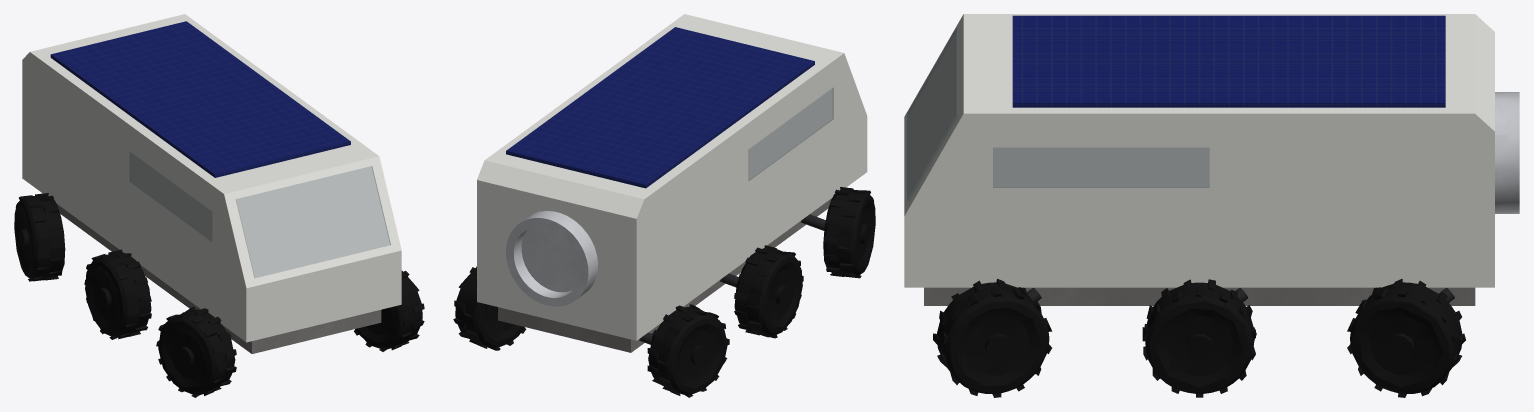
The model's file is rover03_pressurised_rover_steer_left.glb.
The picture shows the model from 3 angles, left to right: view 1: azimuth 30°, elevation 25°; view 2: azimuth 150°, elevation 25°; view 3: azimuth 270°, elevation 25°; orthographic projection. The views are drawn at different scales.
Visible parts, largest first — view 1: cabin, roof_solar, windows, wheel_4, wheel_5, wheel_6, chassis, wheel_1; view 2: cabin, roof_solar, rear_hatch, wheel_6, wheel_5, wheel_4, chassis, windows, wheel_3, suspension_arms; view 3: cabin, roof_solar, windows, wheel_2, wheel_3, wheel_1, chassis, rear_hatch.
Part boxes in pixels (<box>): cabin: <box>22,14,401,342</box>; roof_solar: <box>50,21,350,177</box>; windows: <box>129,151,390,277</box>; wheel_4: <box>156,307,236,397</box>; wheel_5: <box>84,249,151,339</box>; wheel_6: <box>14,193,65,281</box>; chassis: <box>57,204,381,353</box>; wheel_1: <box>354,270,424,351</box>; cabin: <box>477,14,867,340</box>; roof_solar: <box>506,27,814,188</box>; rear_hatch: <box>506,211,597,306</box>; wheel_6: <box>647,304,729,397</box>; wheel_5: <box>734,245,803,338</box>; wheel_4: <box>823,187,875,278</box>; chassis: <box>498,198,831,352</box>; windows: <box>748,88,833,180</box>; wheel_3: <box>453,266,526,350</box>; suspension_arms: <box>639,214,825,344</box>; cabin: <box>904,14,1494,287</box>; roof_solar: <box>1012,15,1445,107</box>; windows: <box>907,28,1209,201</box>; wheel_2: <box>1142,279,1256,397</box>; wheel_3: <box>1347,279,1465,397</box>; wheel_1: <box>933,278,1052,397</box>; chassis: <box>924,287,1475,305</box>; rear_hatch: <box>1495,92,1519,213</box>.
Size of the model in its own units: 3.58 by 3.03 by 6.25.
7 materials, 3 textured.
